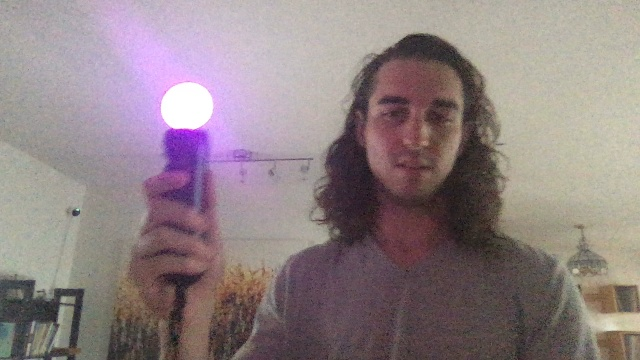wand: (163, 83, 214, 129)
